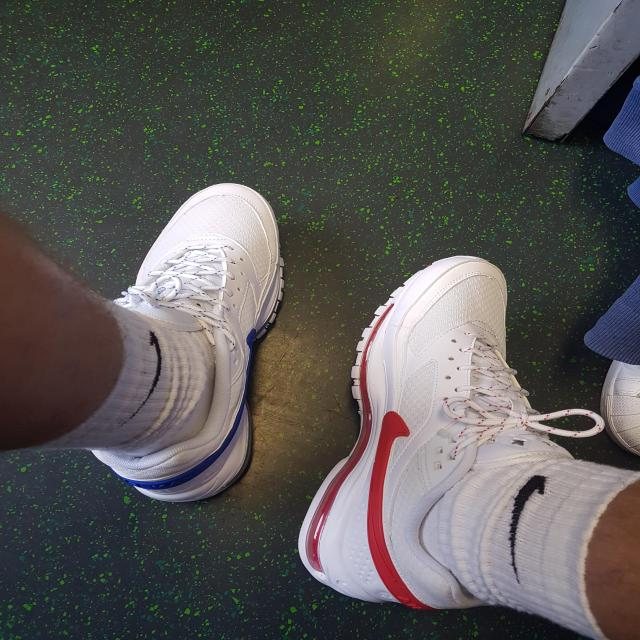shoes: (284, 251, 555, 627), (77, 163, 297, 516)
